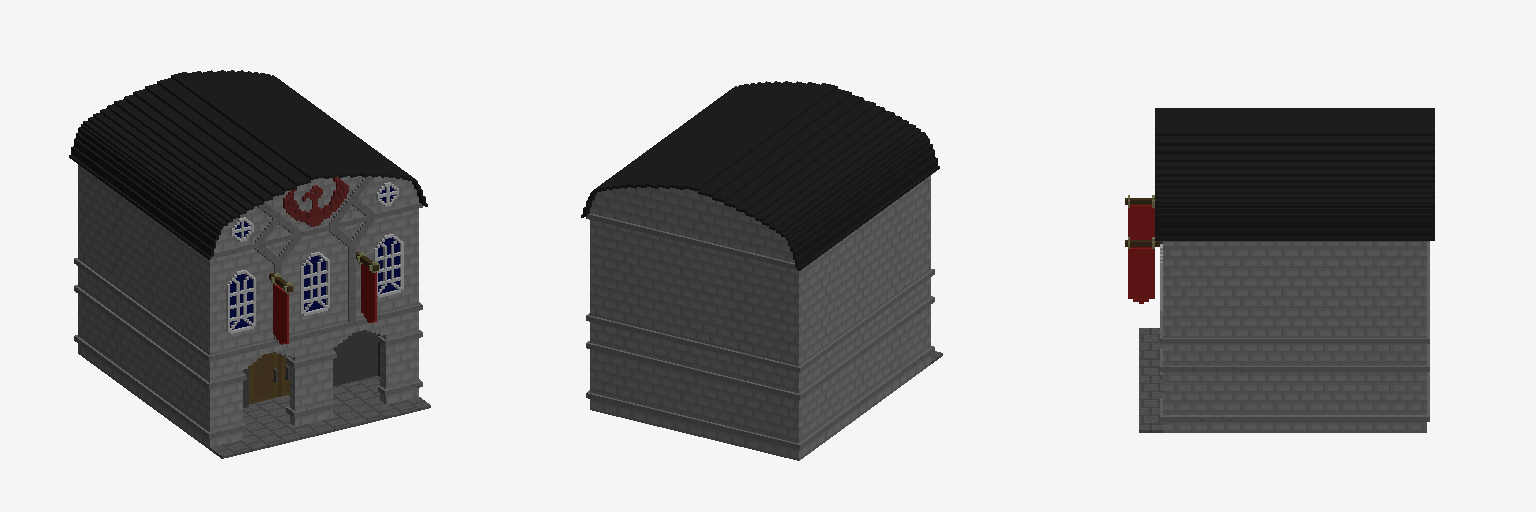
The picture shows the model from 3 angles: view 1: azimuth 30°, elevation 25°; view 2: azimuth 150°, elevation 25°; view 3: azimuth 270°, elevation 25°; orthographic projection.
Visible parts, largest first — view 1: object 1; view 2: object 1; view 3: object 1.
Boxes of the visible parts, <box> form: object 1: <box>69,70,430,458</box>; object 1: <box>581,81,942,460</box>; object 1: <box>1125,108,1434,432</box>.
Size of the model in its own units: 9.2 by 10.1 by 11.3.
1 materials, 1 textured.